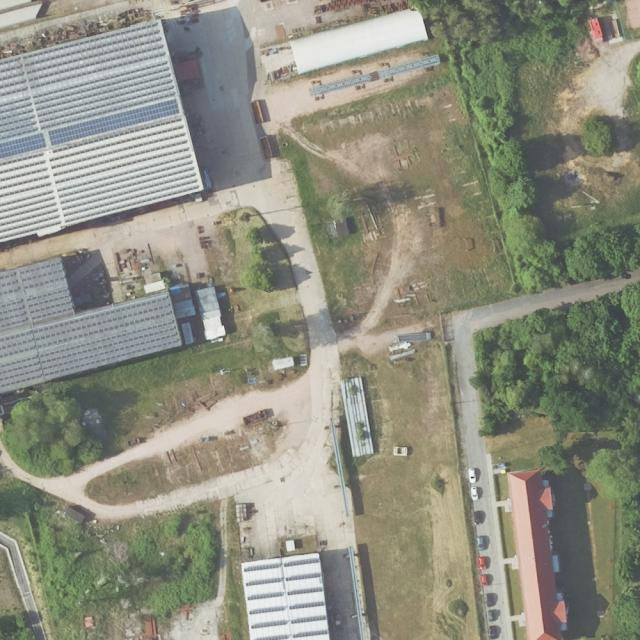PV: (0, 22, 200, 240), (0, 320, 179, 388), (0, 295, 171, 357), (1, 286, 73, 328), (0, 260, 65, 294), (244, 557, 320, 573), (245, 571, 321, 587), (248, 600, 324, 616), (250, 614, 326, 630), (247, 587, 323, 602), (258, 630, 327, 640)
